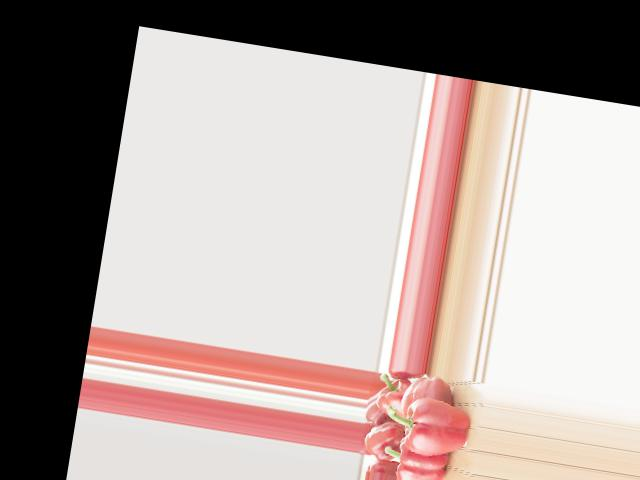bell_pepper: (373, 370, 414, 417)
